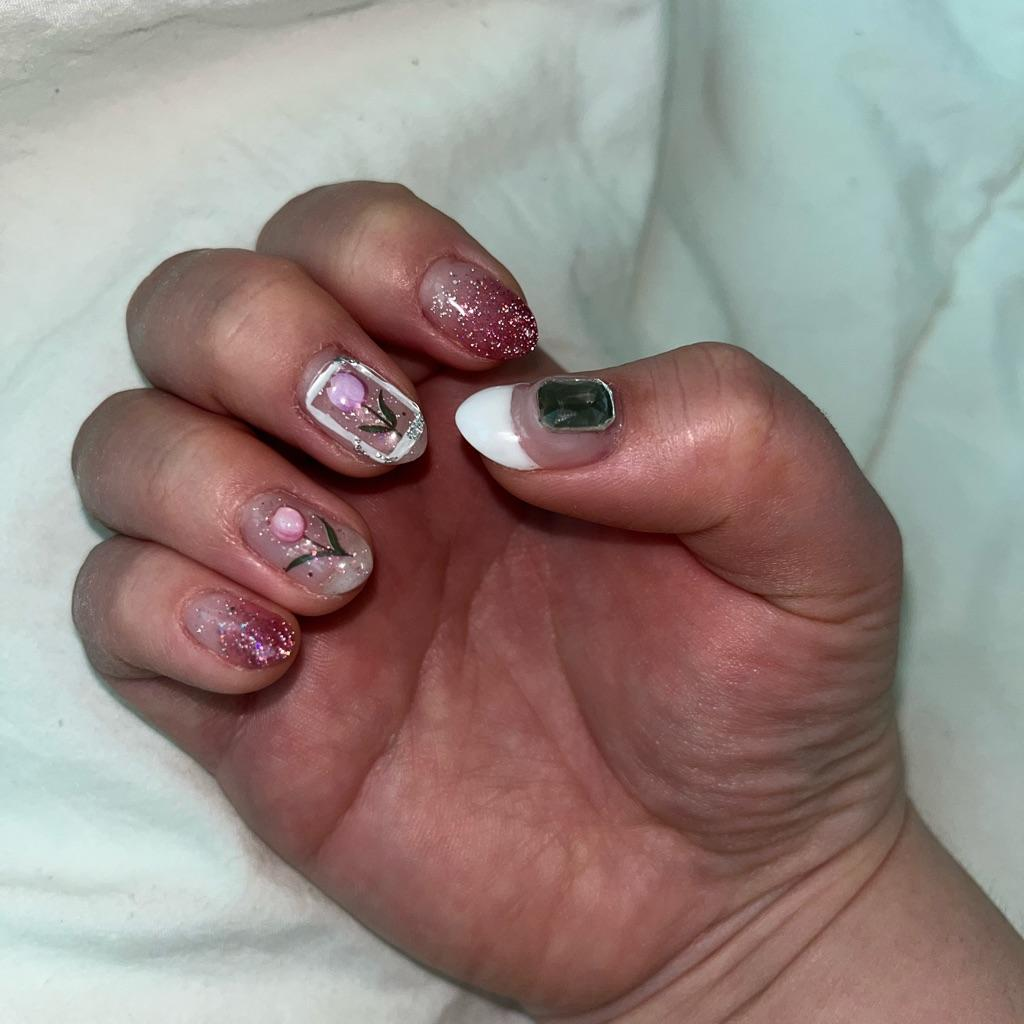nail: (454, 373, 621, 472), (237, 486, 373, 600), (298, 350, 427, 467), (415, 254, 539, 364), (178, 584, 299, 672)
